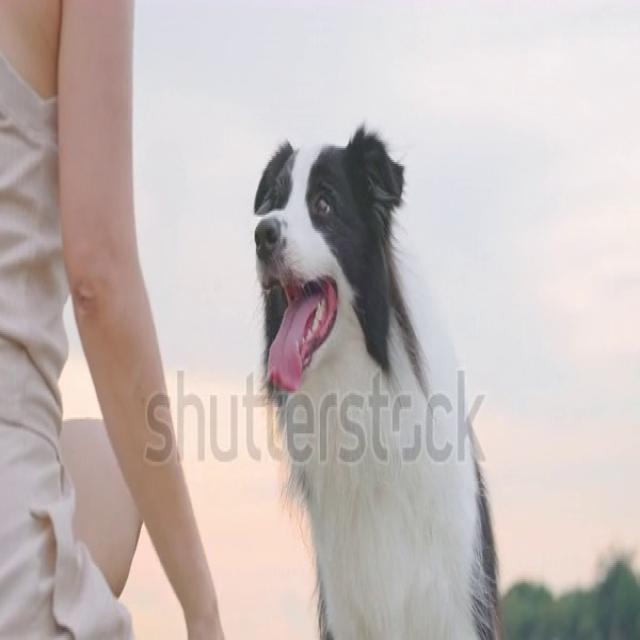normal_animals: (248, 119, 507, 638)
